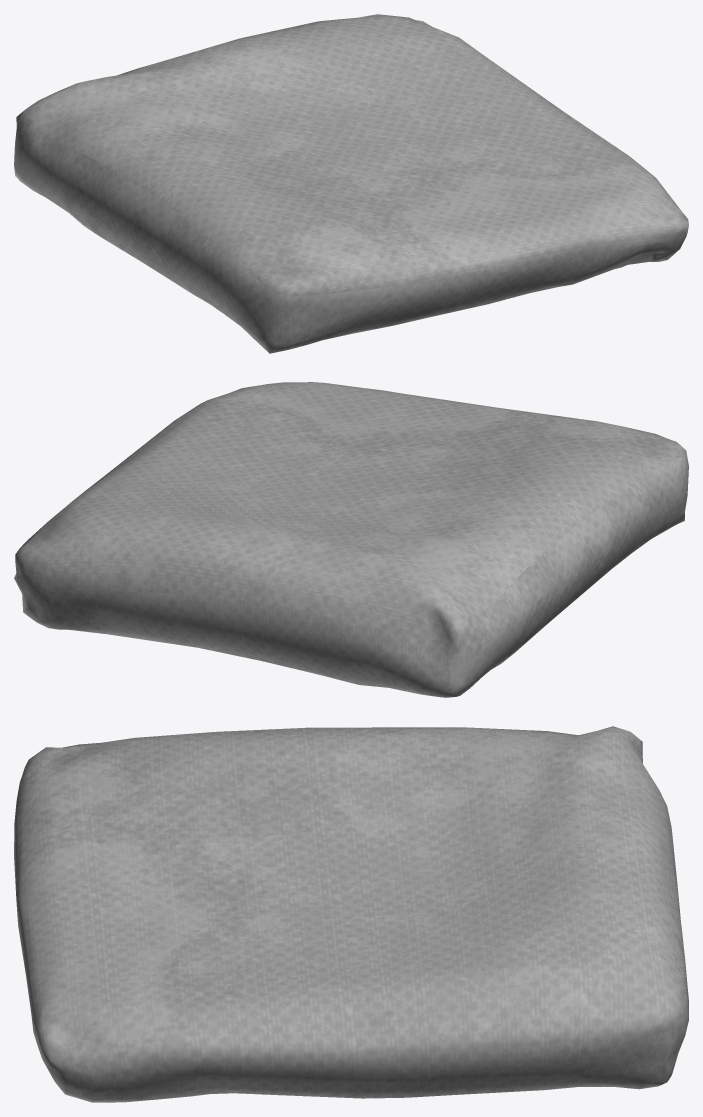
Rendered from SM_Warehouse-ThrowPillows_low_002.fbx.
The picture shows the model from 3 angles, top to bottom: view 1: azimuth 30°, elevation 25°; view 2: azimuth 150°, elevation 25°; view 3: azimuth 270°, elevation 25°; orthographic projection. The views are drawn at different scales.
Parts seen in each view (by area): view 1: SM_Warehouse-ThrowPillows_low_002_LOD0; view 2: SM_Warehouse-ThrowPillows_low_002_LOD0; view 3: SM_Warehouse-ThrowPillows_low_002_LOD0.
Part boxes in pixels (x1=…): SM_Warehouse-ThrowPillows_low_002_LOD0: x1=14, y1=14, x2=688, y2=353; SM_Warehouse-ThrowPillows_low_002_LOD0: x1=14, y1=382, x2=688, y2=697; SM_Warehouse-ThrowPillows_low_002_LOD0: x1=14, y1=726, x2=688, y2=1102.
Bounding box in the file's own units: 99.76 × 102 × 25.48.
Materials: 1 (1 with a texture image).
